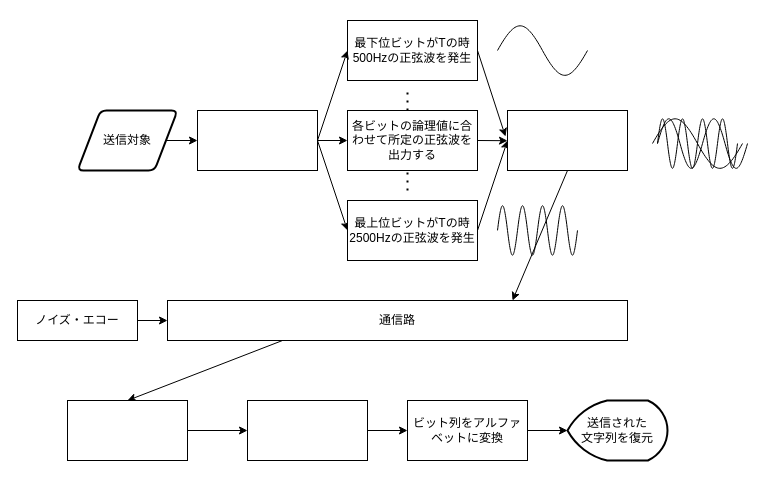
The diagram is 765 pixels wide and 479 high, and some of its shapes have lost their labels. The shapes that lost their labels are listed below. From the top down, each one's box as (x1, y1, x2, y2) in pixels, then its label:
(196, 110, 318, 170): ビット列への変換
(506, 110, 628, 170): 正弦波を 合成・標準化
(66, 400, 188, 460): FFT
(246, 400, 368, 460): 各送信周波数の ゲインをチェックし 閾値を超えていればT
